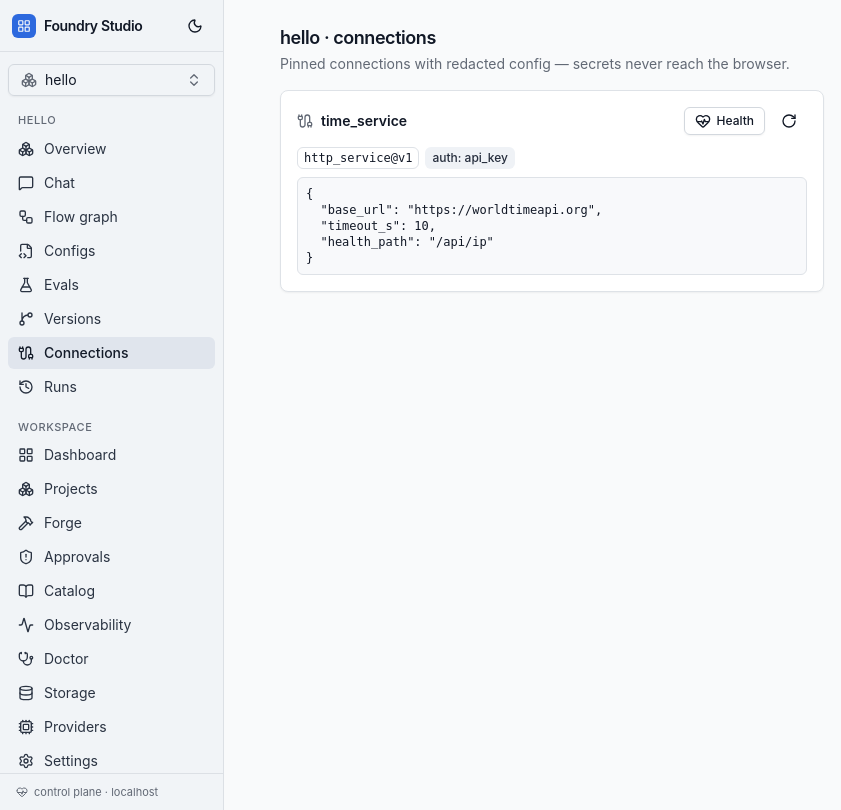
Test case: connections › renders redacted descriptors and runs a health check
The width and height of the screenshot is (841, 810).
Expected: the text "time_service" is shown, top-left (297, 113), bottom-right (407, 129)
Expected: the text "http_service@v1" is shown, top-left (297, 147), bottom-right (419, 169)
Click the button "Health" at (724, 121), box top-left (684, 107), bottom-right (765, 135)
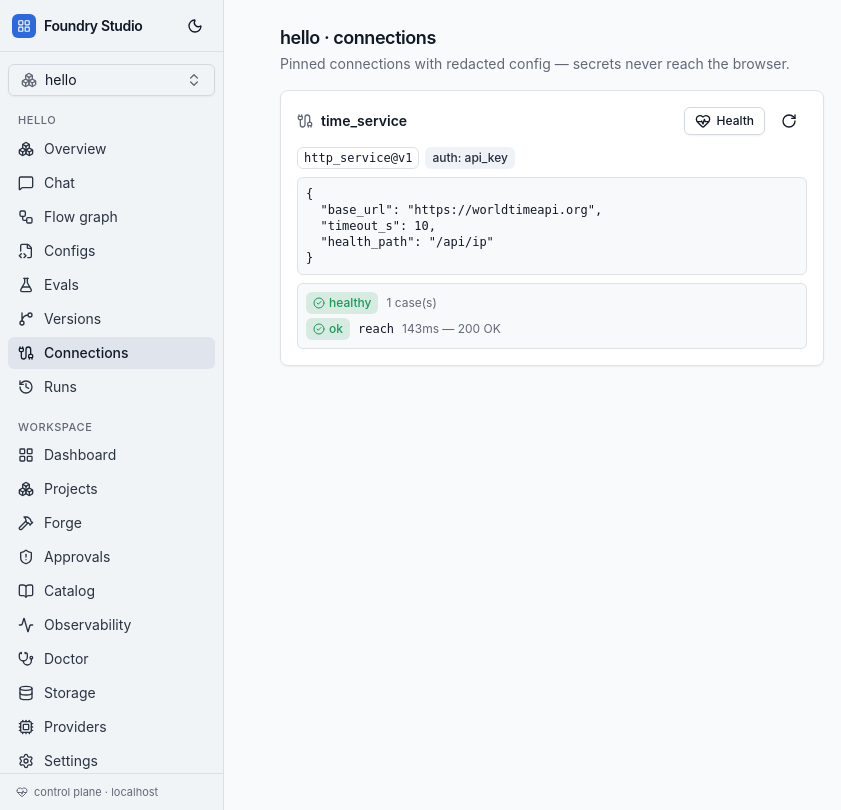
Expected: the text "143ms — 200 OK" is shown, top-left (402, 321), bottom-right (501, 337)
Expected: the text "reach" is shown, top-left (358, 321), bottom-right (394, 337)
